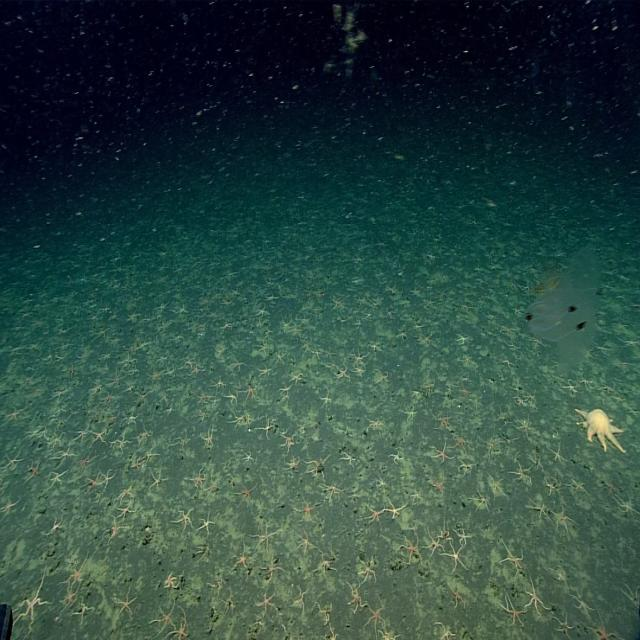brittle-stars: (15, 576, 49, 635), (361, 602, 385, 638), (525, 579, 546, 617), (500, 596, 524, 629), (252, 522, 276, 554), (589, 615, 619, 640), (501, 543, 523, 576), (399, 533, 422, 564), (114, 586, 136, 617), (154, 602, 176, 631), (293, 496, 316, 523), (66, 558, 88, 586), (622, 581, 640, 614), (446, 544, 467, 572), (554, 612, 575, 640), (172, 508, 194, 534), (553, 507, 574, 533), (573, 590, 594, 616), (232, 545, 250, 575), (347, 582, 365, 612), (170, 612, 189, 640), (305, 456, 328, 479), (257, 590, 279, 614), (314, 552, 335, 577), (550, 565, 570, 591), (2, 449, 24, 472), (528, 497, 549, 521), (358, 558, 377, 584), (61, 584, 80, 610), (616, 493, 638, 515), (262, 558, 284, 580), (236, 481, 256, 505), (104, 518, 124, 542), (0, 494, 20, 518), (290, 589, 308, 615), (385, 497, 406, 519), (512, 461, 533, 483), (297, 530, 316, 554), (425, 530, 443, 555), (74, 598, 92, 623), (434, 622, 459, 640), (432, 443, 453, 464), (516, 415, 536, 437), (54, 445, 76, 465), (148, 468, 166, 492), (453, 431, 471, 455), (322, 483, 344, 502), (470, 490, 489, 512), (450, 584, 466, 610), (428, 474, 446, 497), (315, 600, 333, 623), (489, 476, 506, 500), (4, 405, 24, 425), (46, 514, 64, 536), (49, 468, 69, 487), (116, 484, 135, 504), (551, 445, 569, 466), (199, 513, 216, 535), (174, 429, 191, 451), (367, 504, 385, 524), (115, 502, 135, 520), (136, 426, 153, 447), (193, 544, 212, 562), (189, 468, 205, 489), (455, 524, 470, 546), (366, 416, 384, 434), (342, 449, 359, 468), (259, 418, 275, 438), (435, 522, 451, 542), (165, 570, 180, 591), (206, 477, 221, 498), (485, 436, 499, 458), (86, 474, 103, 492), (115, 434, 132, 452), (195, 387, 212, 405), (77, 453, 94, 471), (280, 432, 295, 452), (28, 459, 42, 480), (284, 454, 300, 472), (436, 414, 452, 432), (50, 429, 66, 447), (568, 478, 586, 494), (458, 458, 474, 476), (24, 424, 42, 440), (100, 469, 115, 488), (101, 410, 120, 425), (91, 428, 108, 444), (242, 384, 258, 401), (580, 374, 595, 392), (208, 578, 223, 596), (202, 426, 215, 446), (231, 356, 247, 372), (352, 349, 368, 365), (110, 370, 126, 386), (594, 341, 611, 356), (390, 448, 404, 466), (622, 337, 640, 351), (546, 478, 560, 496), (608, 361, 626, 375), (320, 387, 332, 407), (376, 368, 391, 384), (606, 481, 621, 497), (377, 628, 397, 640), (148, 367, 162, 384), (144, 447, 158, 464), (410, 486, 422, 505), (404, 408, 419, 423), (136, 338, 151, 353), (367, 340, 382, 355), (462, 352, 477, 367), (178, 356, 193, 371), (226, 390, 240, 406), (75, 426, 89, 442), (599, 382, 615, 396), (231, 412, 245, 428), (102, 390, 116, 406), (126, 410, 140, 426), (54, 384, 70, 398), (530, 454, 543, 471), (336, 364, 350, 379), (501, 325, 516, 339), (214, 342, 227, 358), (423, 379, 436, 395), (583, 345, 596, 361), (325, 628, 342, 640), (222, 594, 232, 614), (290, 372, 304, 386), (563, 380, 577, 394), (353, 363, 367, 377), (500, 355, 514, 369), (93, 328, 107, 342), (120, 354, 134, 368), (55, 404, 69, 418), (529, 336, 543, 350), (189, 361, 202, 376), (212, 376, 225, 391), (158, 318, 171, 333), (88, 382, 101, 397), (519, 283, 531, 299), (260, 362, 273, 376), (266, 290, 280, 303), (256, 342, 269, 356), (220, 318, 233, 332), (458, 384, 471, 398), (300, 313, 313, 327), (243, 450, 255, 465), (276, 348, 286, 366), (128, 309, 140, 324), (281, 316, 292, 332), (459, 301, 472, 314), (510, 303, 523, 316), (457, 334, 471, 346), (256, 304, 268, 318), (515, 393, 527, 407), (412, 387, 424, 401), (280, 382, 292, 396), (156, 300, 168, 314), (377, 476, 388, 491), (471, 394, 482, 409), (422, 329, 434, 342), (333, 295, 345, 308), (424, 295, 436, 308), (197, 410, 210, 422), (172, 334, 185, 346), (132, 457, 143, 471), (312, 346, 323, 360), (130, 362, 141, 376), (244, 412, 254, 427), (355, 293, 366, 306), (385, 307, 396, 320), (525, 390, 536, 403), (221, 295, 232, 308), (290, 323, 301, 336), (411, 285, 422, 298), (166, 364, 177, 377), (178, 303, 188, 317), (302, 340, 312, 354), (350, 488, 360, 502), (324, 347, 334, 361), (363, 310, 374, 322), (414, 320, 425, 332), (396, 328, 407, 340), (160, 351, 170, 364), (264, 325, 274, 338), (202, 293, 212, 306), (142, 312, 152, 325), (36, 429, 47, 440), (209, 309, 219, 321), (514, 382, 524, 394), (369, 297, 379, 309), (632, 299, 640, 314), (122, 386, 134, 396), (532, 400, 541, 413), (266, 277, 275, 289), (396, 267, 405, 279)
